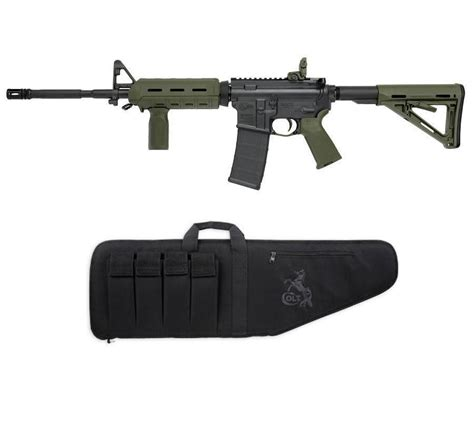gun: (6, 56, 466, 192)
